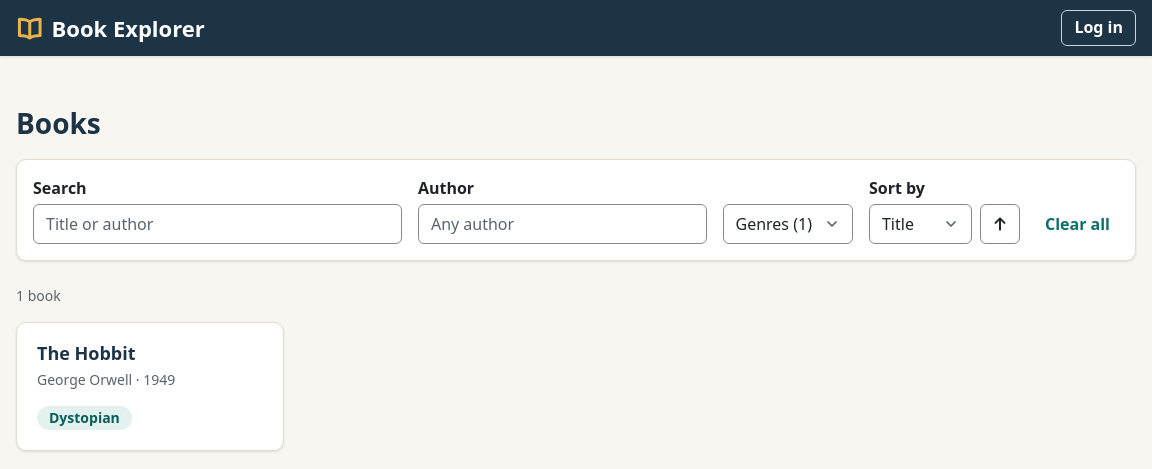
Test case: the search box's × shows only with text, and during the pause clears it without searching
Expected: the link "The Hobbit" is shown, [37,341,136,365]
Type "dune" into the search field labelled "Search" at (217, 224), box [33,204,402,244]
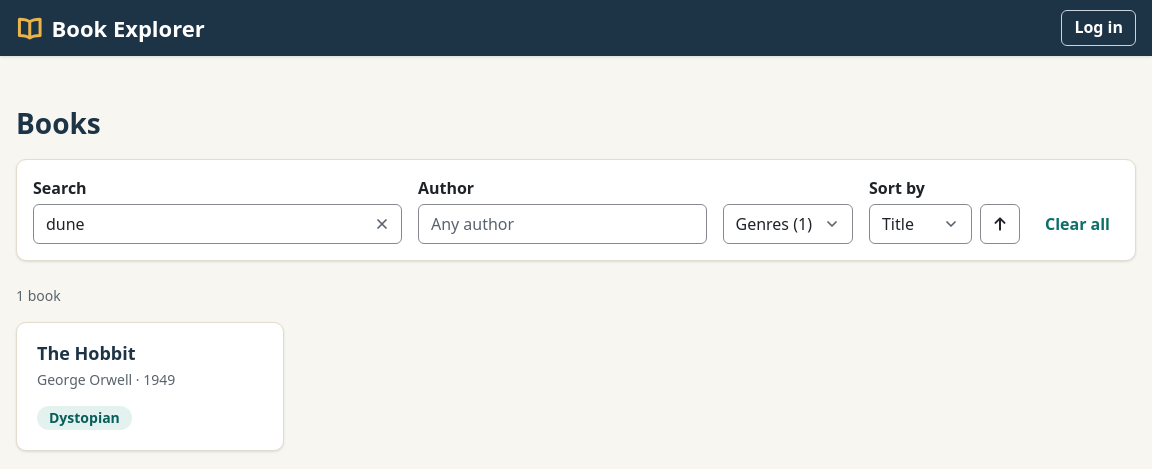
Click the button named "Clear search" at (382, 224), box [366,208,398,240]
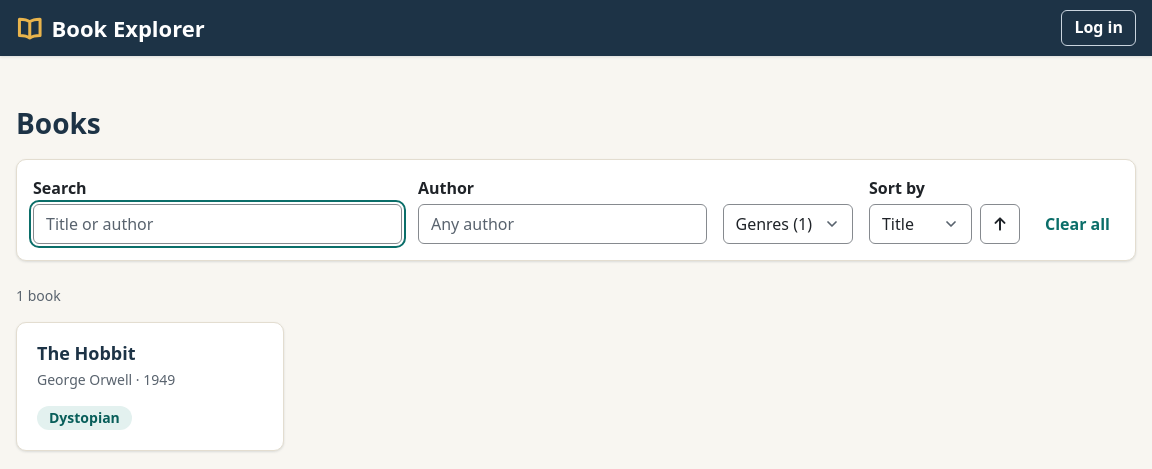
Expected: the search field labelled "Search" is empty, [33,204,402,244]
